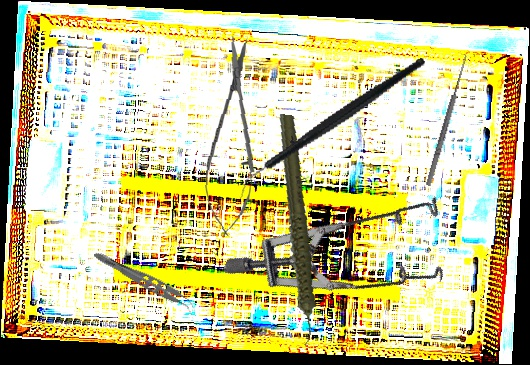Chopper: (217, 57, 446, 199)
Handpiece: (245, 113, 345, 347)
Hook Surgical: (420, 52, 470, 187)
Micro Scissor: (200, 33, 265, 238)
Speculum: (221, 125, 474, 361)
Tissue Forceps: (88, 248, 200, 317)
